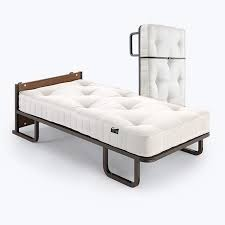bed-matress: (19, 78, 212, 157)
